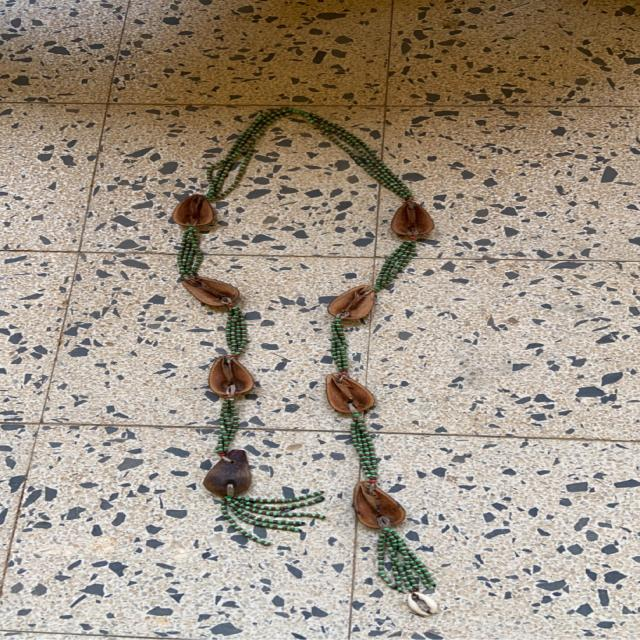facedown: (200, 446, 256, 499)
faceup: (346, 478, 406, 529), (177, 273, 248, 312), (204, 350, 256, 400), (324, 280, 380, 324), (324, 369, 374, 417), (167, 186, 219, 231), (391, 194, 437, 240)
